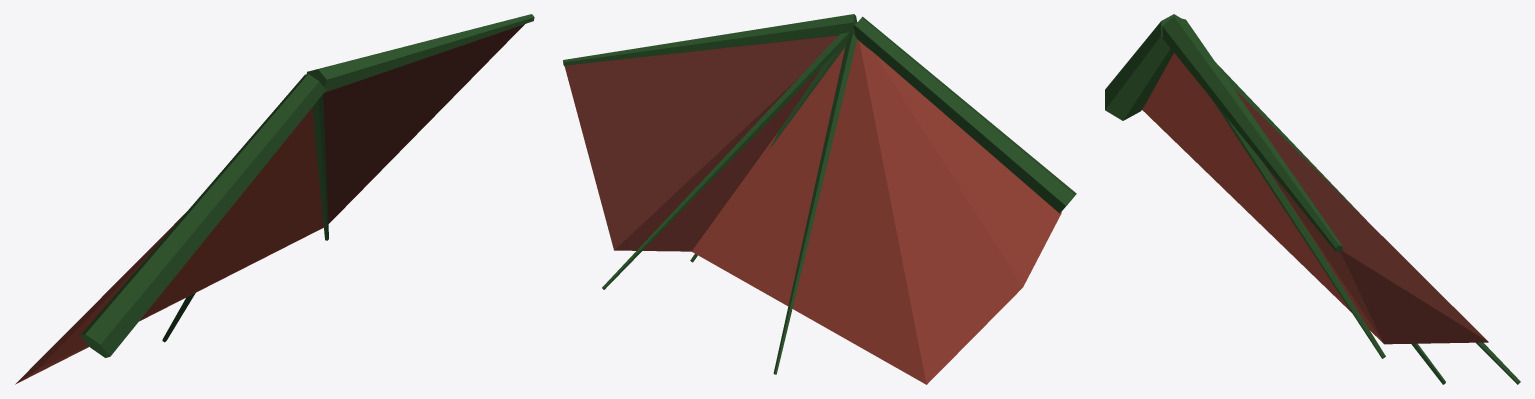
Rendered from dragon_0_wing_l.glb.
3 renders of one model, left to right at view 1: azimuth 30°, elevation 25°; view 2: azimuth 150°, elevation 25°; view 3: azimuth 270°, elevation 25°, orthographic. The views are drawn at different scales.
Visible parts, largest first — view 1: dragon_0_wing_l; view 2: dragon_0_wing_l; view 3: dragon_0_wing_l.
Boxes of the visible parts, x1=… form: dragon_0_wing_l: x1=15, y1=14, x2=534, y2=384; dragon_0_wing_l: x1=563, y1=14, x2=1076, y2=384; dragon_0_wing_l: x1=1105, y1=14, x2=1520, y2=384.
Bounding box in the file's own units: 2.25 × 1.4 × 1.39.
